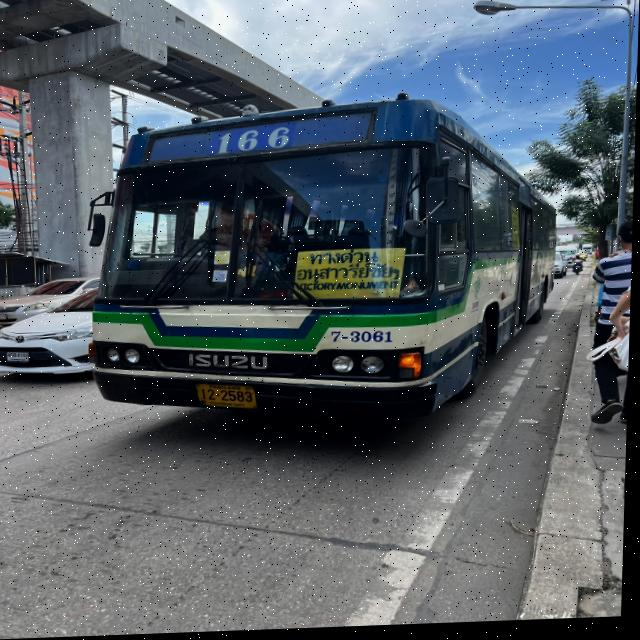BMTA-bus: (81, 85, 568, 447)
Bus-Line-Number: (216, 124, 295, 156)
Destination-Sign-Normal-Expressway: (299, 251, 406, 305)
